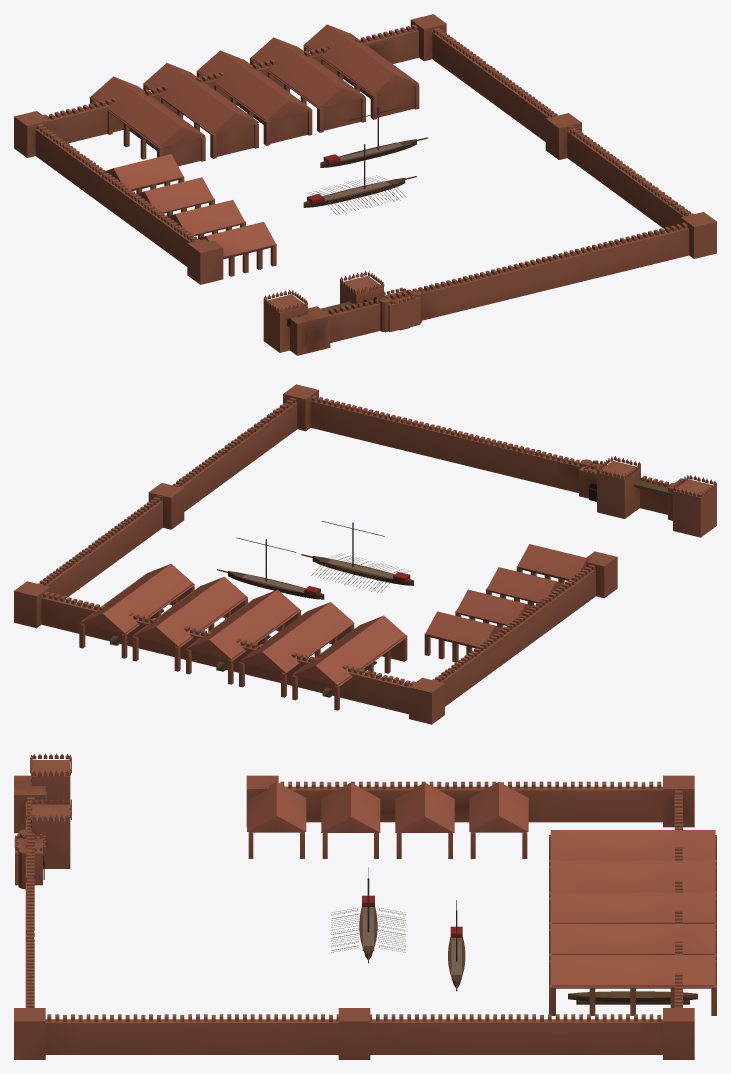
File: arsenale-1204.glb
3 views of the same model, one above another, from view 1: azimuth 30°, elevation 25°; view 2: azimuth 150°, elevation 25°; view 3: azimuth 270°, elevation 25° (orthographic). The views are drawn at different scales.
Parts seen in each view (by area): view 1: p1_gates, p2_slipways, p3_galleys; view 2: p1_gates, p2_slipways, p3_galleys; view 3: p1_gates, p2_slipways, p3_galleys.
Boxes of the visible parts, x1,y1,x2,y2 form: p1_gates: (14, 14, 716, 355); p2_slipways: (89, 24, 419, 276); p3_galleys: (303, 106, 427, 215); p1_gates: (14, 384, 716, 724); p2_slipways: (79, 544, 589, 710); p3_galleys: (217, 521, 413, 599); p1_gates: (14, 753, 694, 1059); p2_slipways: (247, 782, 716, 1015); p3_galleys: (331, 867, 465, 991).
Size of what is drawn, in the model's own units: 169 by 19.19 by 199.
